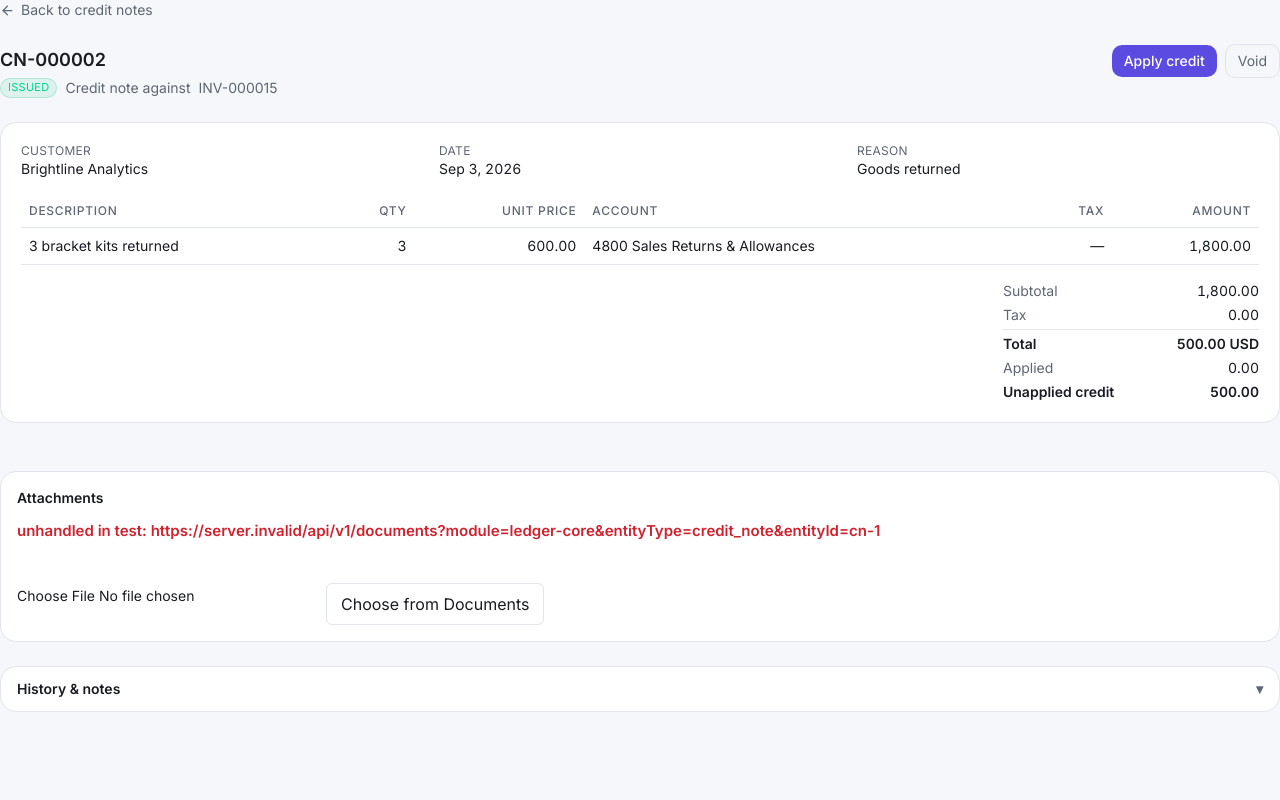
it: CreditNoteDetailPage › apply dialog defaults the amount to min(unapplied, due) and posts it
Click the button "Apply credit".
click(1164, 61)  # box [1112,45,1217,77]
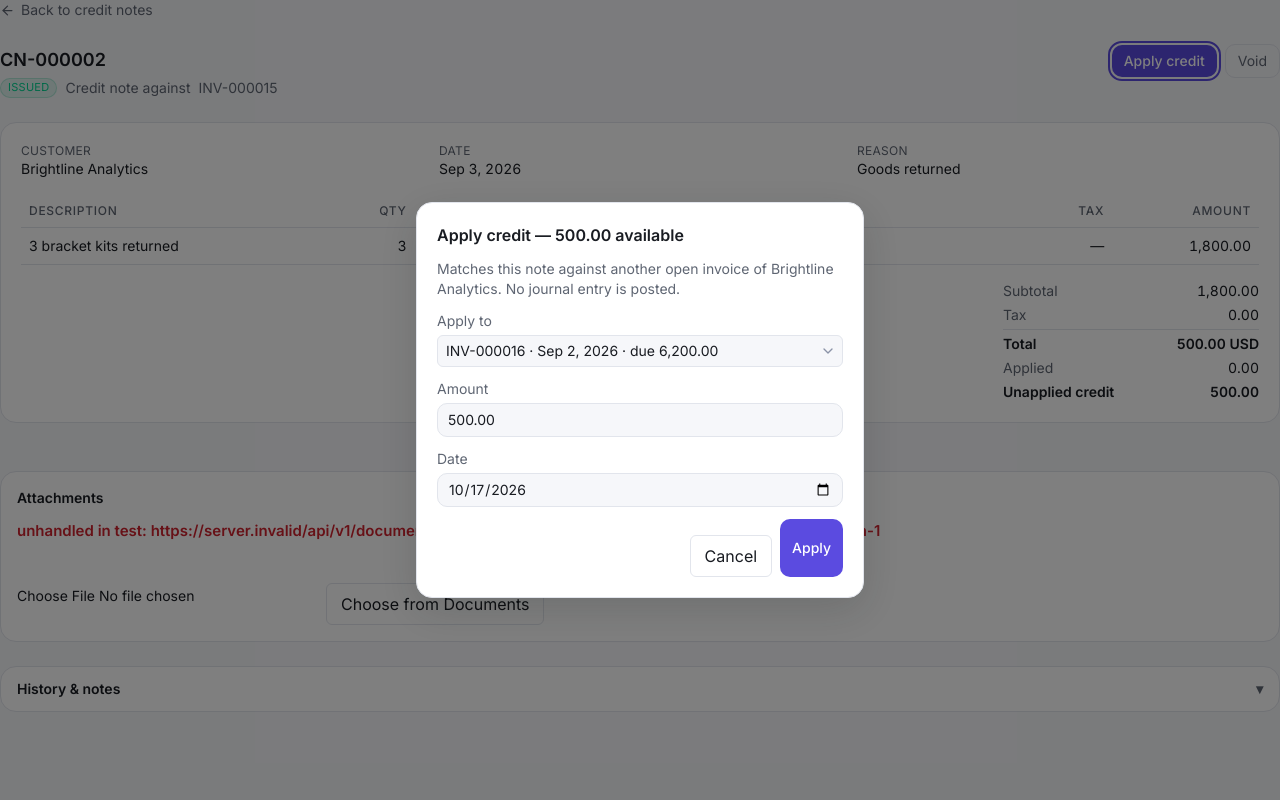
Expected: the field named "Amount to apply" holds "500.00", [437,403,843,437]
Click the button "Apply".
click(812, 548)  # box [780,519,843,577]
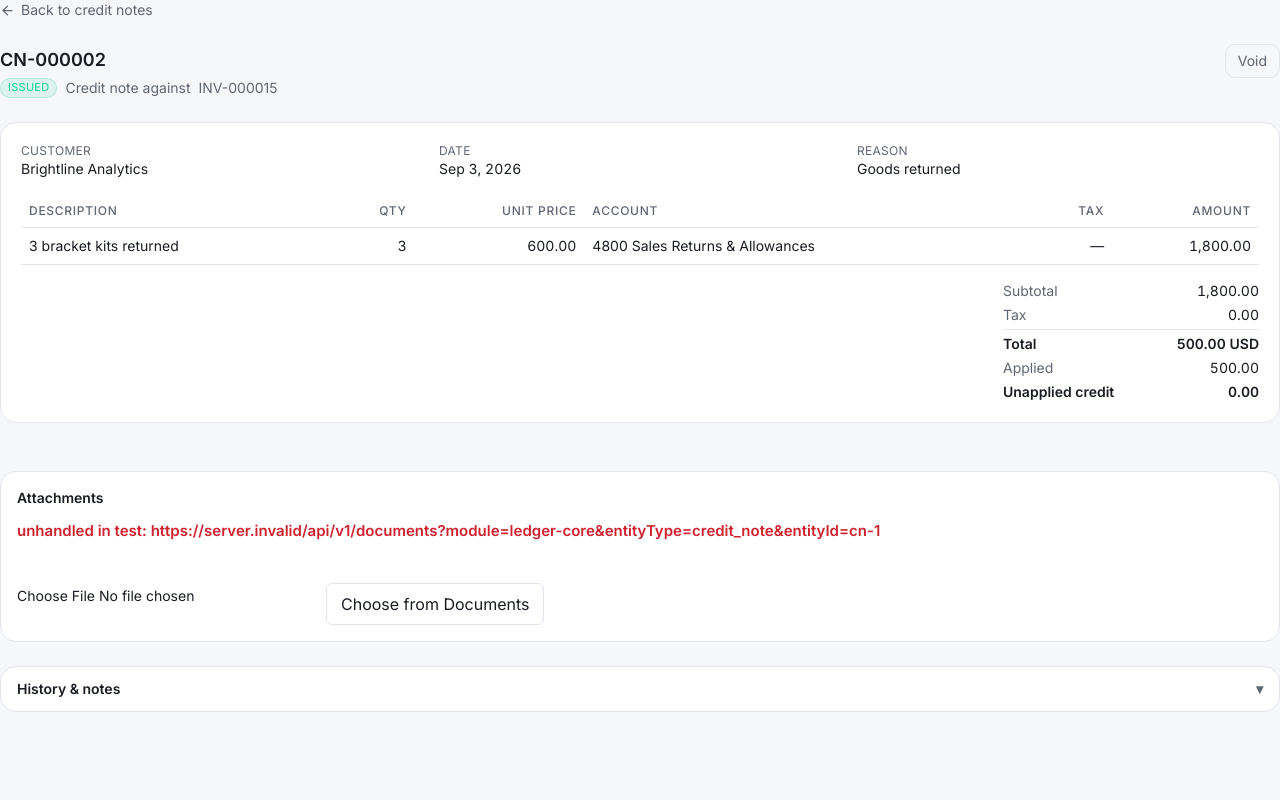
Expected: the text with test id "unapplied" reads "0.00", [1228,383,1259,400]
